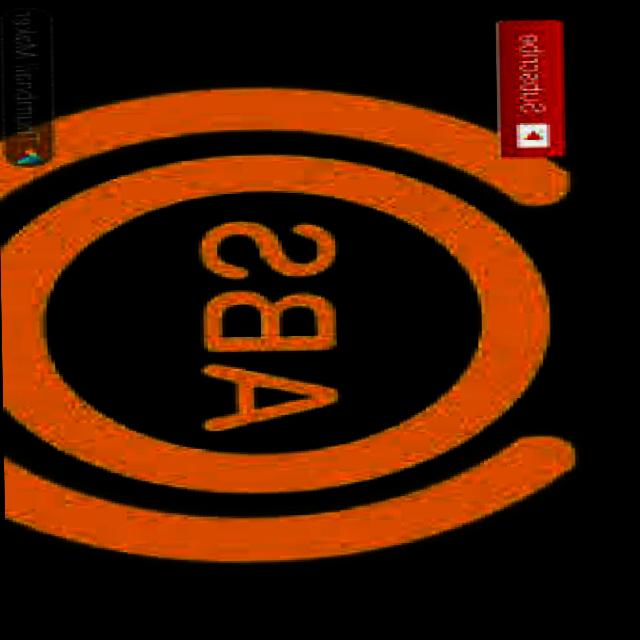kontrolka: (0, 70, 602, 584)
